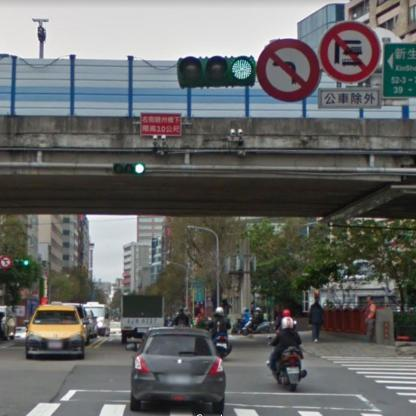Green Light: (177, 57, 253, 87), (110, 160, 148, 174)
